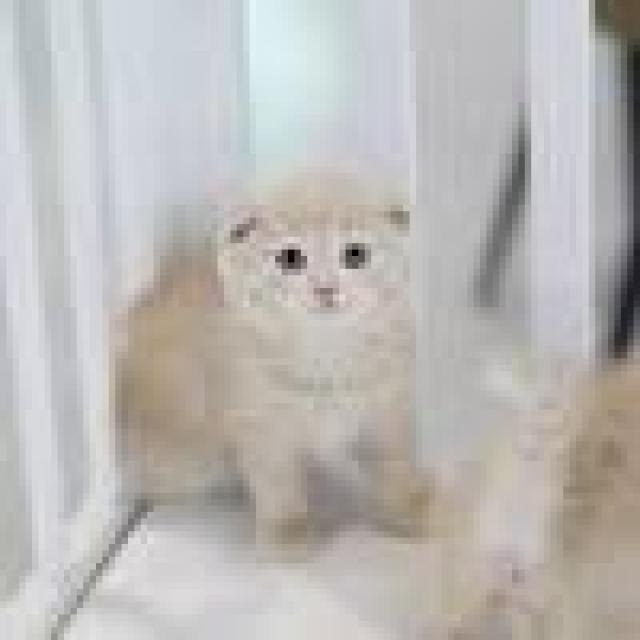cat-face: (150, 134, 521, 418)
